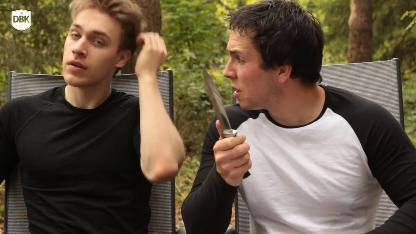knife: (196, 58, 250, 158)
